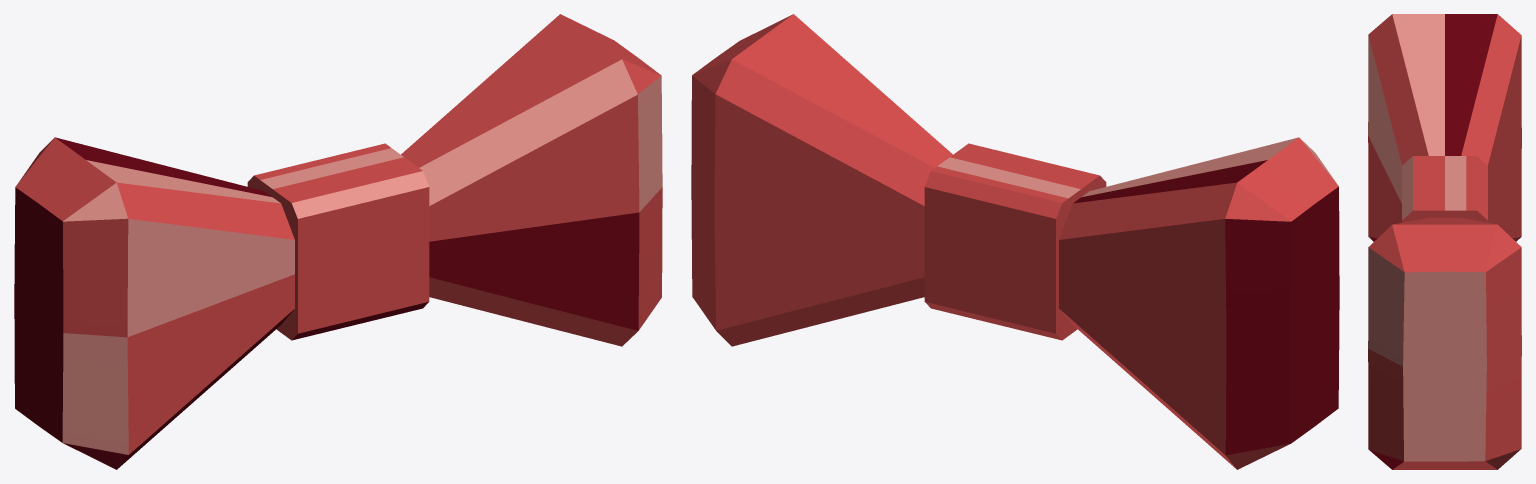
Rendered from bow.fbx.
3 renders of one model, left to right at view 1: azimuth 30°, elevation 25°; view 2: azimuth 150°, elevation 25°; view 3: azimuth 270°, elevation 25°, orthographic. The views are drawn at different scales.
Parts seen in each view (by area): view 1: pCube1; view 2: pCube1; view 3: pCube1.
Part boxes in pixels (left/top/right/bottom): pCube1: left=14, top=14, right=662, bottom=469; pCube1: left=691, top=14, right=1339, bottom=469; pCube1: left=1368, top=14, right=1521, bottom=469.
Size of the model in its own units: 456 by 209 by 119.
